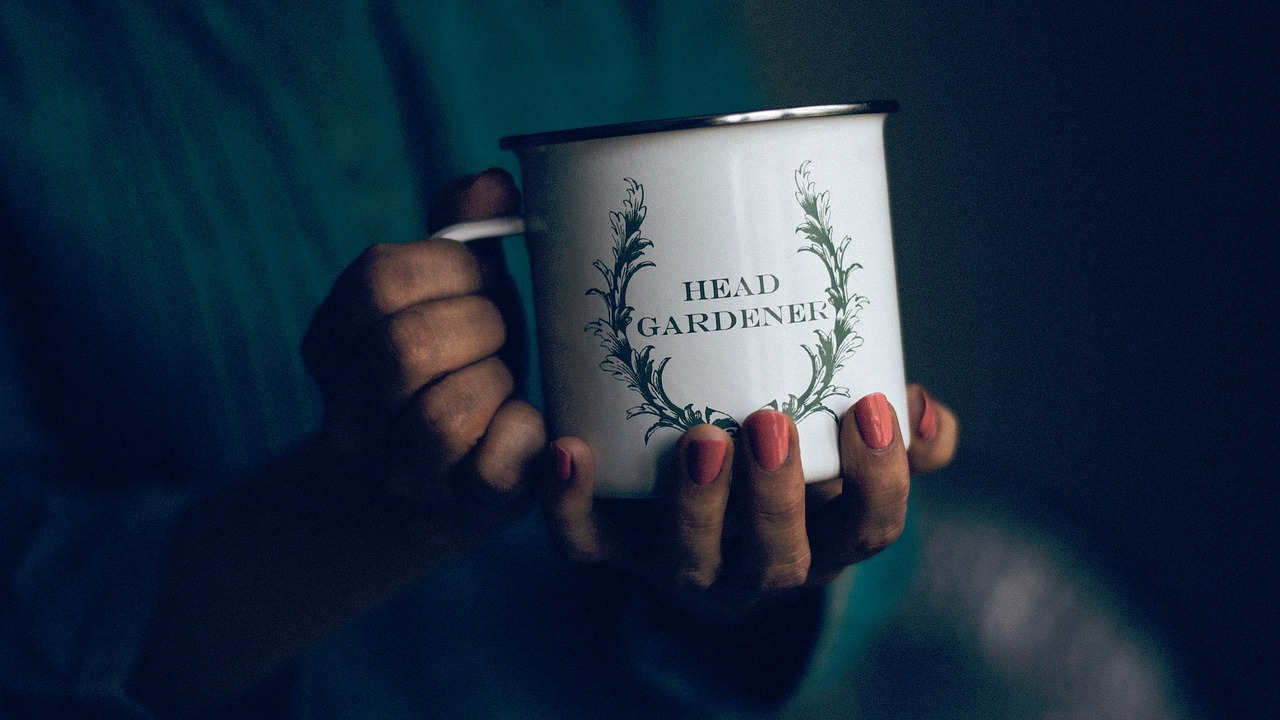mug: (376, 72, 933, 557)
